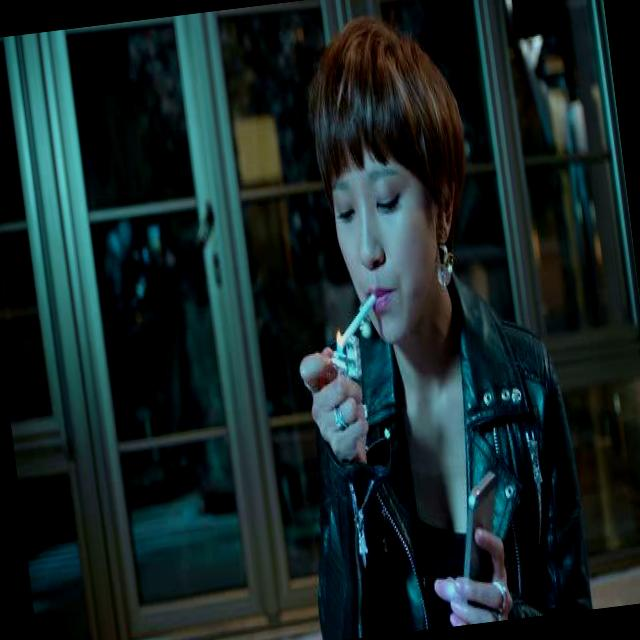cigarette: (309, 276, 402, 360)
